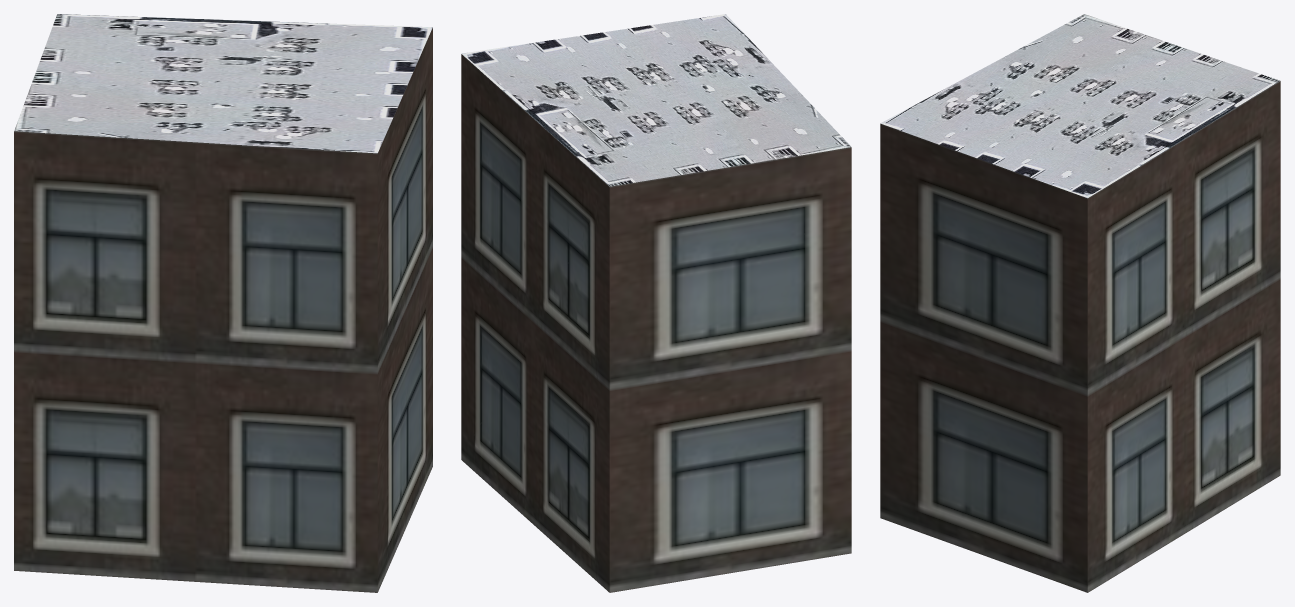
File: ResTex__2333.fbx
The picture shows the model from 3 angles, left to right: view 1: azimuth 30°, elevation 25°; view 2: azimuth 150°, elevation 25°; view 3: azimuth 270°, elevation 25°; orthographic projection. The views are drawn at different scales.
Parts seen in each view (by area): view 1: CityEngineMaterial_16_m, CityEngineMaterial_15_m; view 2: CityEngineMaterial_16_m, CityEngineMaterial_15_m; view 3: CityEngineMaterial_16_m, CityEngineMaterial_15_m.
Boxes of the visible parts, left/top/right/bottom form: CityEngineMaterial_16_m: left=14, top=27, right=432, bottom=592; CityEngineMaterial_15_m: left=14, top=14, right=432, bottom=153; CityEngineMaterial_16_m: left=461, top=54, right=851, bottom=592; CityEngineMaterial_15_m: left=461, top=14, right=851, bottom=186; CityEngineMaterial_16_m: left=880, top=81, right=1280, bottom=592; CityEngineMaterial_15_m: left=880, top=14, right=1280, bottom=198.
Bounding box in the file's own units: 6.01 × 6 × 5.52.
Materials: 2 (2 with a texture image).
